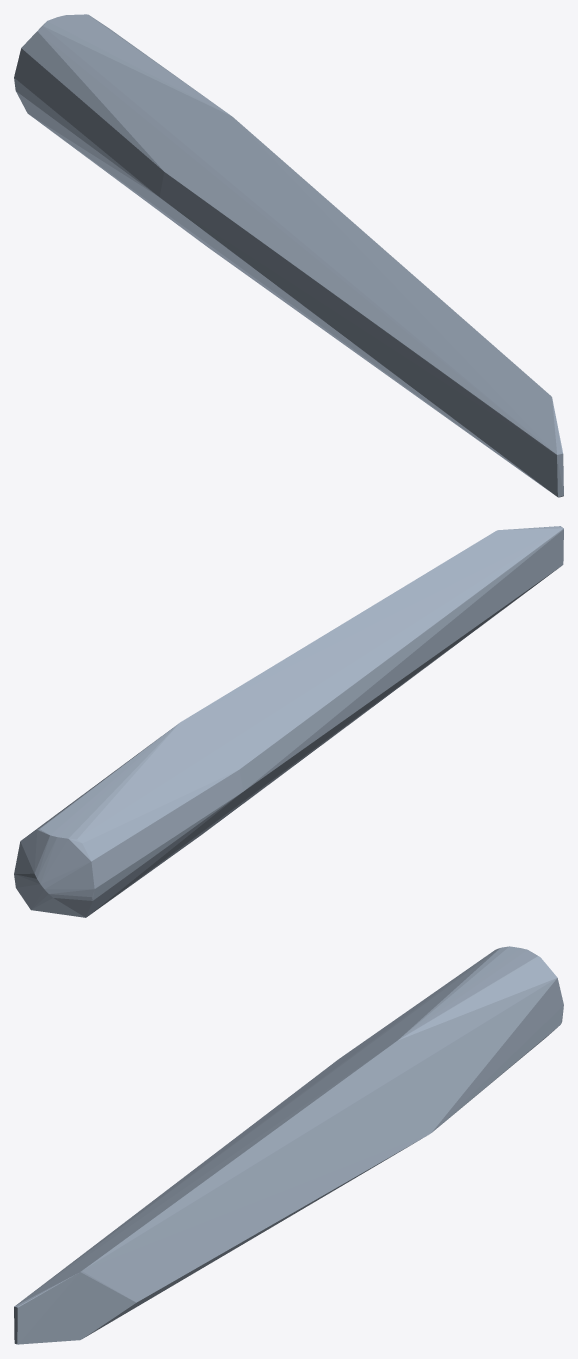
Rendered from handTool_pry_bar_7_9in_a01.glb.
3 renders of one model, top to bottom at view 1: azimuth 30°, elevation 25°; view 2: azimuth 150°, elevation 25°; view 3: azimuth 330°, elevation 25°, orthographic. The views are drawn at different scales.
Visible parts, largest first — view 1: geometry_0; view 2: geometry_0; view 3: geometry_0.
Part boxes in pixels (left/top/right/bottom): geometry_0: left=14, top=14, right=563, bottom=497; geometry_0: left=14, top=526, right=563, bottom=917; geometry_0: left=14, top=946, right=563, bottom=1344.
Bounding box in the file's own units: 0.0558 × 0.0598 × 0.4799.
